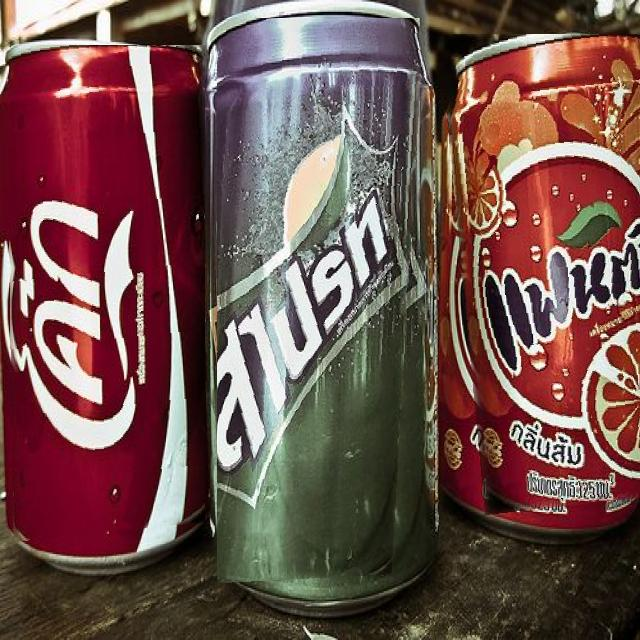Cans: (217, 18, 425, 585), (6, 45, 205, 542), (439, 34, 640, 515)
